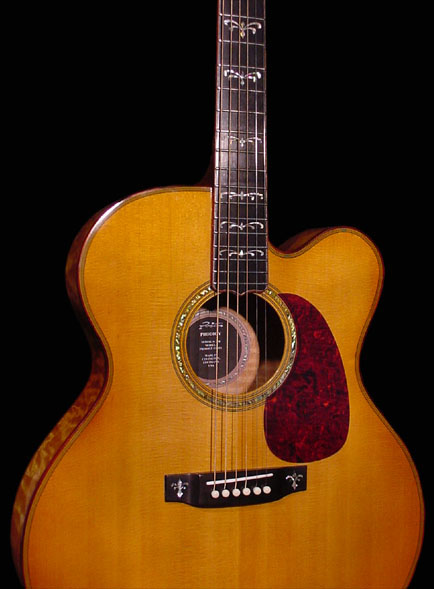guitar: (12, 1, 425, 589)
